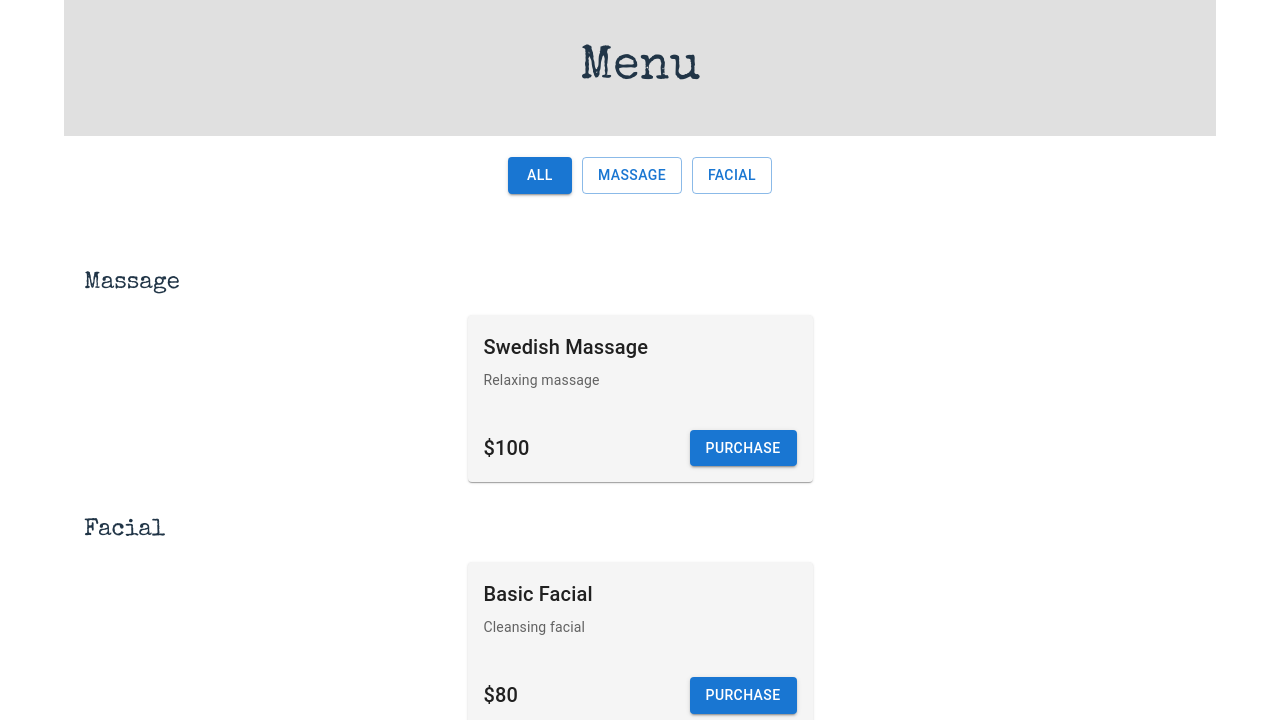
Test: SpaMenuPage › filters menu items by category
Expected: the heading "Swedish Massage" is shown, [484,334,648,358]
Expected: the heading "Basic Facial" is shown, [484,582,593,606]
Click the button "Facial" at [732, 175], box [692,157,772,194]
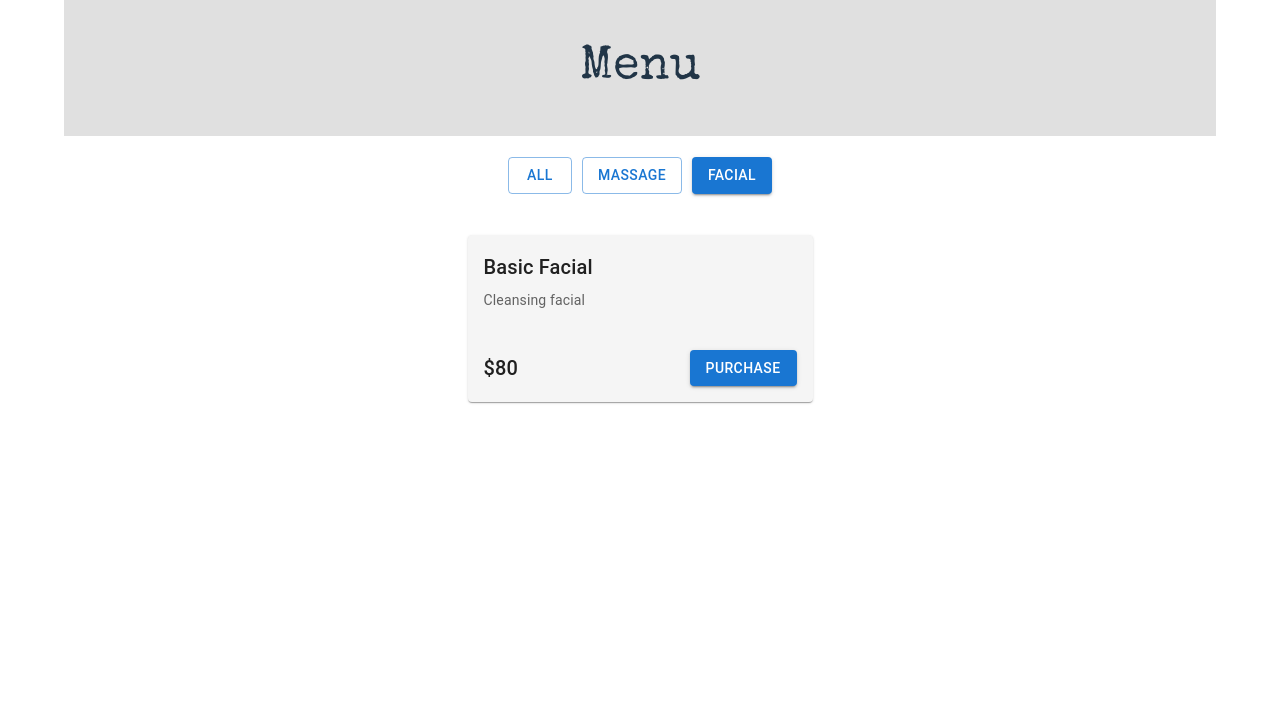
Expected: the heading "Basic Facial" is shown, [484,254,593,278]
Expected: the heading "Swedish Massage" is gone
